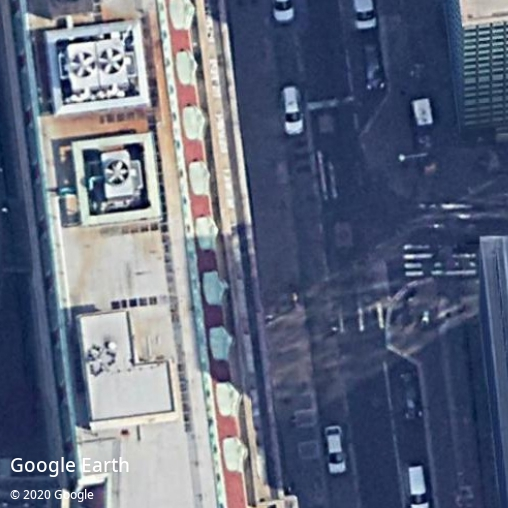Vent: (70, 52, 96, 78), (99, 49, 124, 75), (104, 160, 129, 186)
